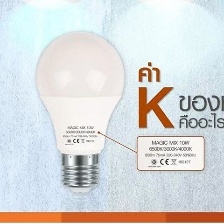light_bulb: (32, 26, 127, 195)
